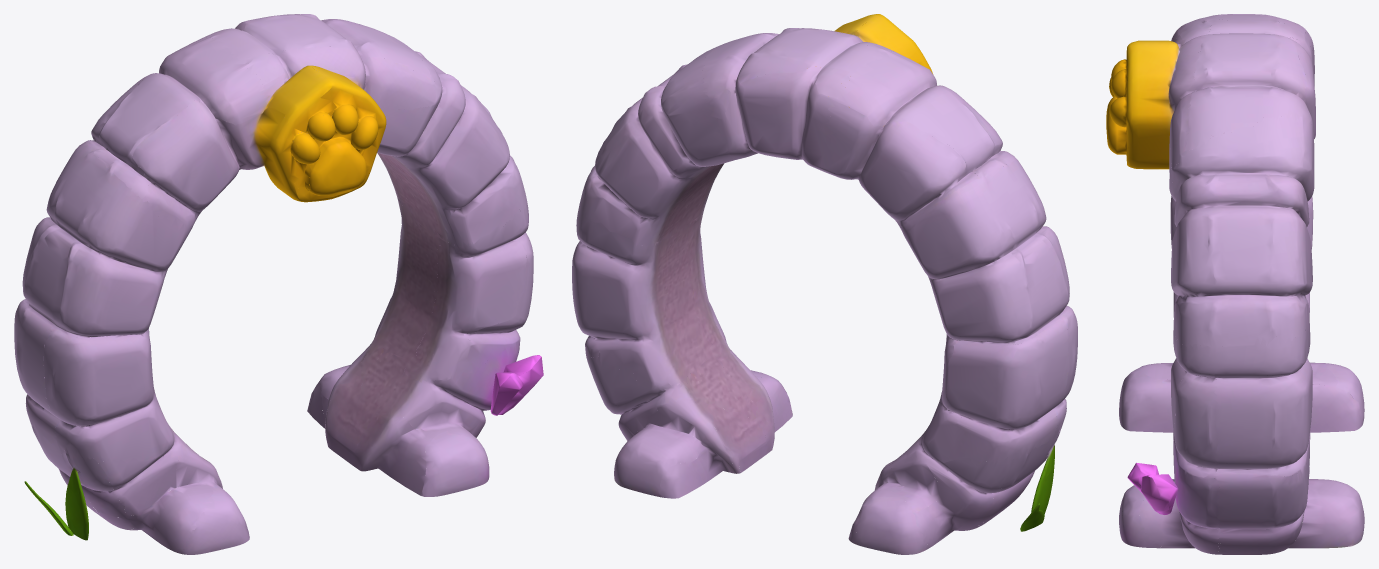
Rendered from boss_portal.glb.
3 views of the same model, side by side, from view 1: azimuth 30°, elevation 25°; view 2: azimuth 150°, elevation 25°; view 3: azimuth 270°, elevation 25° (orthographic). The views are drawn at different scales.
Visible parts, largest first — view 1: boss_portal; view 2: boss_portal; view 3: boss_portal.
Boxes of the visible parts, x1=… form: boss_portal: x1=14, y1=14, x2=543, y2=554; boss_portal: x1=572, y1=14, x2=1077, y2=554; boss_portal: x1=1106, y1=14, x2=1364, y2=554.
Bounding box in the file's own units: 1.13 × 1 × 0.5391.
1 material, 1 textured.
